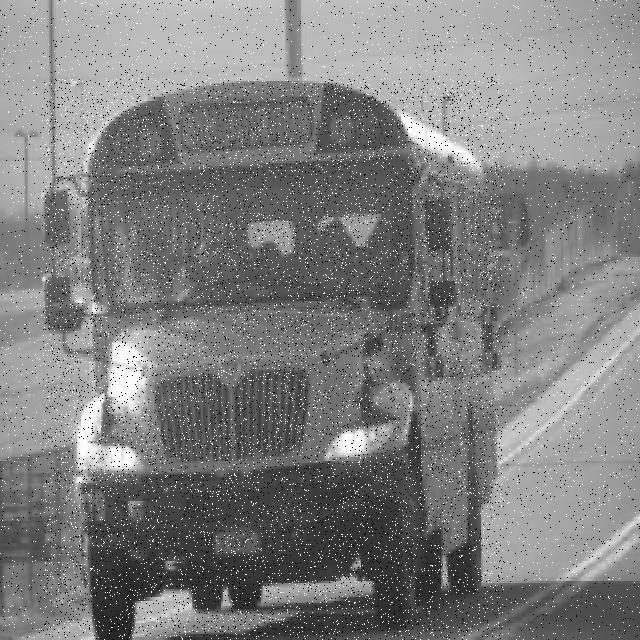Bus: (43, 79, 503, 640)
